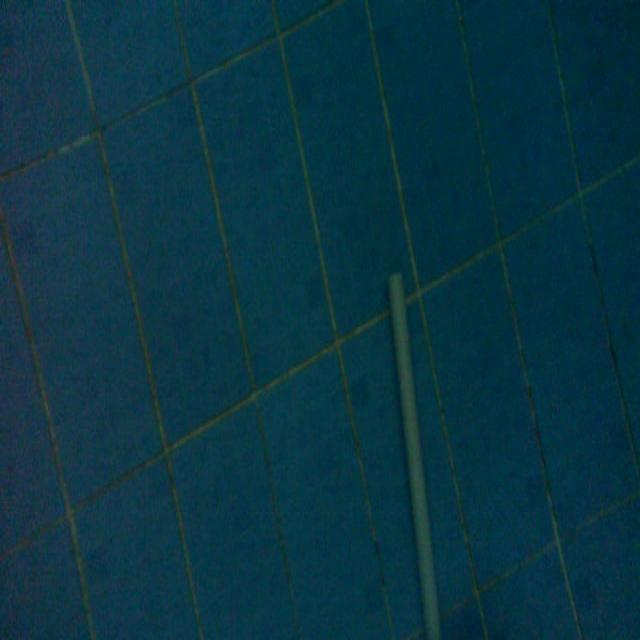Cube: (385, 266, 444, 636)
